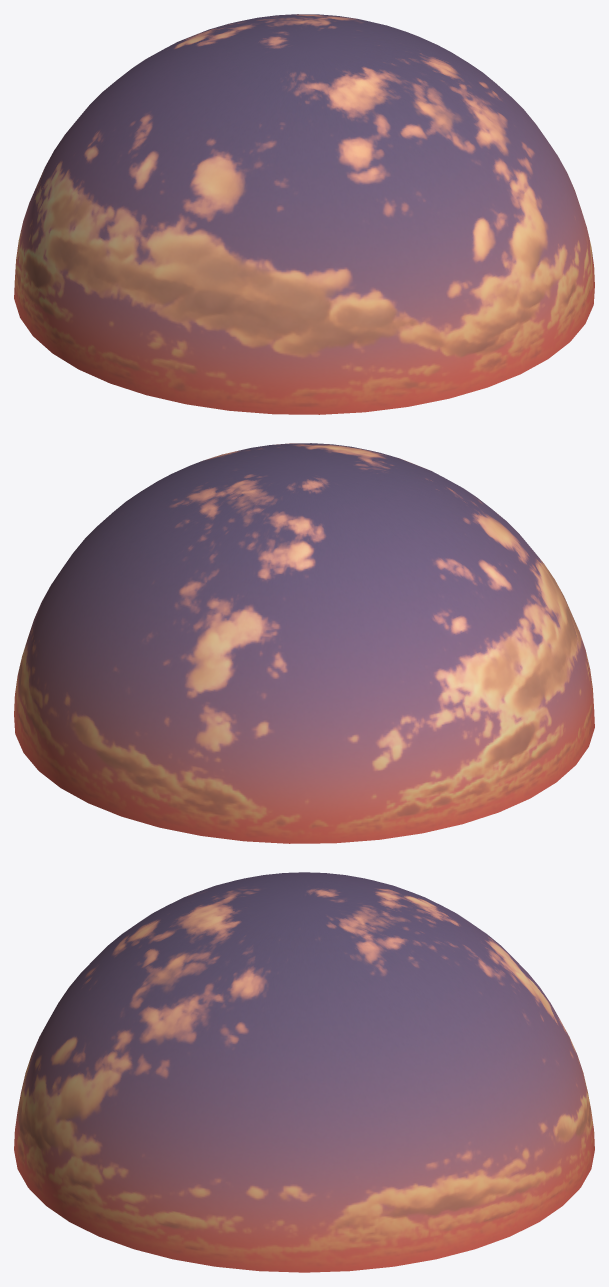
The model's file is EP1_sky02.fbx.
3 renders of one model, top to bottom at view 1: azimuth 30°, elevation 25°; view 2: azimuth 150°, elevation 25°; view 3: azimuth 270°, elevation 25°, orthographic.
Visible parts, largest first — view 1: sky02; view 2: sky02; view 3: sky02.
Part boxes in pixels (x1,y1,x2,y2): sky02: (14,14,594,414); sky02: (14,443,594,843); sky02: (14,872,594,1272).
Bounding box in the file's own units: 800 × 378 × 800.
